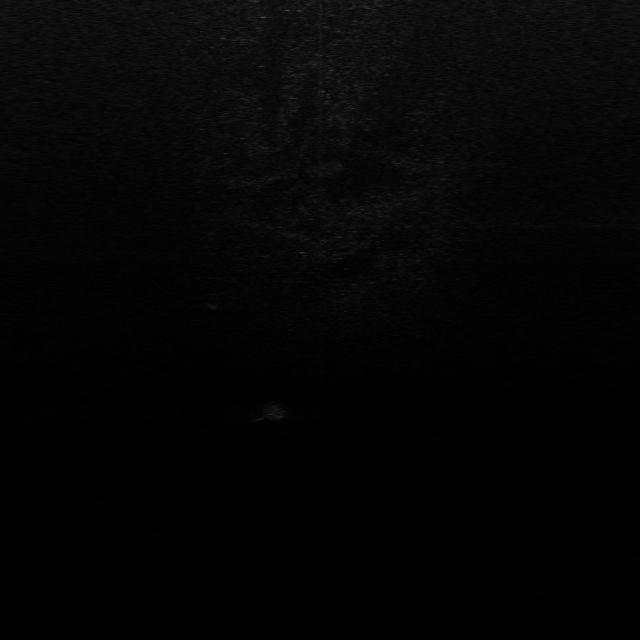ball: (257, 402, 289, 421)
circle cage: (201, 292, 227, 311)
